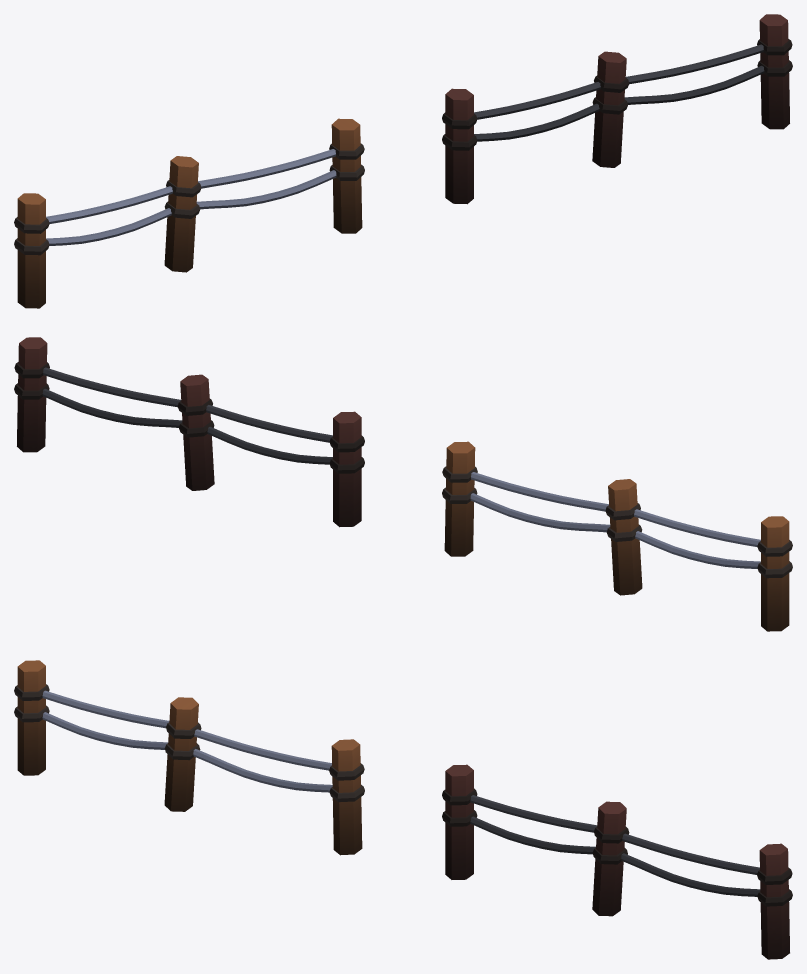
The model's file is Fence_wood_1.fbx.
3 renders of one model, top to bottom at view 1: azimuth 30°, elevation 25°; view 2: azimuth 150°, elevation 25°; view 3: azimuth 330°, elevation 25°, orthographic.
Visible parts, largest first — view 1: Fence_wood_1, Fence_wood_1.001; view 2: Fence_wood_1, Fence_wood_1.001; view 3: Fence_wood_1, Fence_wood_1.001.
Boxes of the visible parts, box(x1,y1,x2,y2) form: Fence_wood_1: box(14, 118, 364, 308); Fence_wood_1.001: box(442, 14, 792, 204); Fence_wood_1: box(442, 441, 792, 631); Fence_wood_1.001: box(14, 337, 364, 527); Fence_wood_1: box(14, 660, 364, 855); Fence_wood_1.001: box(442, 764, 792, 959).
Size of the model in its own units: 451 by 60 by 20.
1 material, 1 textured.
